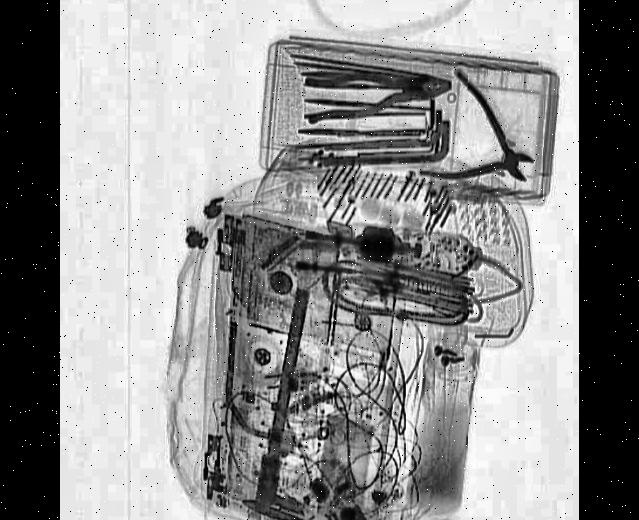Pliers: (417, 63, 546, 223), (301, 58, 450, 127)
